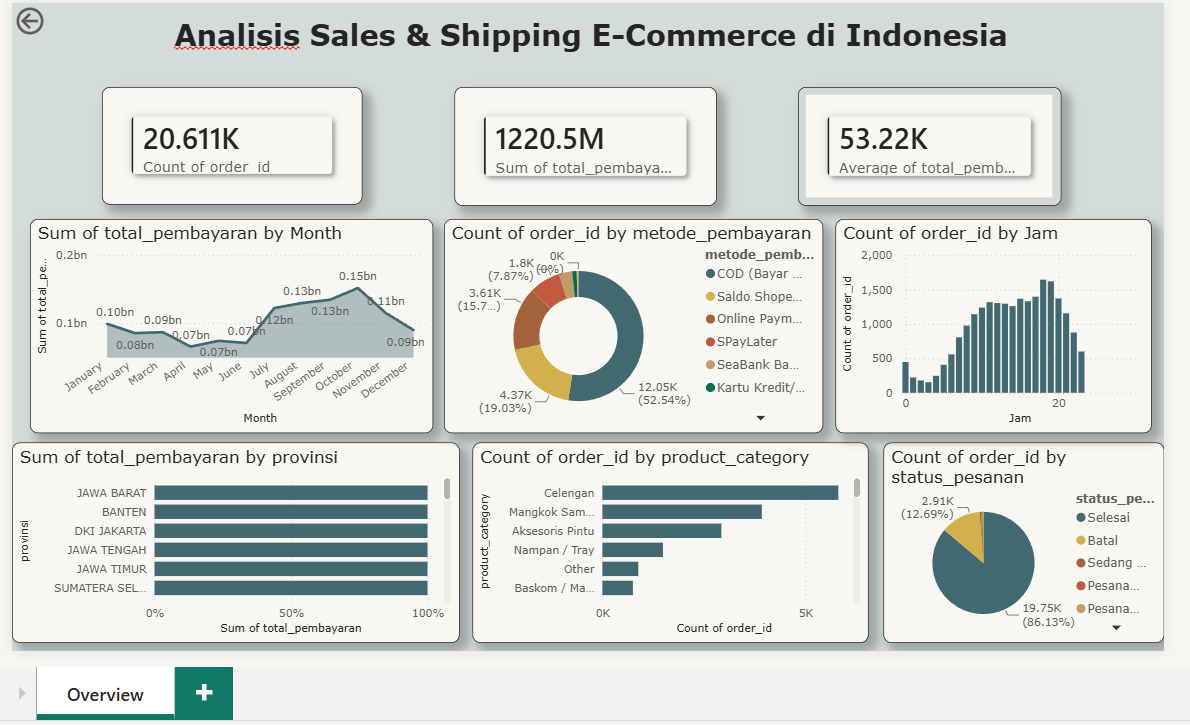

This screenshot's page, from the dashboard's own definition file:
{"tool":"powerbi","page":{"name":"Overview","canvas":[1280,720],"ordinal":0},"visuals":[{"type":"actionButton","box":[0,0,100,40],"z":0},{"type":"cardVisual","fields":{"Data":["Count(sales_data.order_id)"]},"box":[100.2,92.6,289.1,130.4],"z":1000},{"type":"cardVisual","fields":{"Data":["Sum(sales_data.total_pembayaran)"]},"box":[491.3,92.6,291,132.3],"z":2000},{"type":"cardVisual","fields":{"Data":["Avg(sales_data.total_pembayaran)"]},"box":[873.1,92.6,292.9,132.3],"z":3000},{"type":"lineChart","fields":{"Y":["Sum(sales_data.total_pembayaran)"],"Category":["sales_data.waktu_pesanan_dibuat.Variation.Date Hierarchy.Year","sales_data.waktu_pesanan_dibuat.Variation.Date Hierarchy.Quarter","sales_data.waktu_pesanan_dibuat.Variation.Date Hierarchy.Month","sales_data.waktu_pesanan_dibuat.Variation.Date Hierarchy.Day"]},"box":[20.8,240,447.9,238.1],"z":4000},{"type":"hundredPercentStackedBarChart","fields":{"Category":["sales_data.provinsi"],"Y":["Sum(sales_data.total_pembayaran)"]},"box":[0,487.6,497,223],"z":5000},{"type":"donutChart","fields":{"Category":["sales_data.metode_pembayaran"],"Y":["CountNonNull(sales_data.order_id)"]},"box":[480,240,421.4,238.1],"z":6000},{"type":"barChart","fields":{"Category":["sales_data.product_category"],"Y":["CountNonNull(sales_data.order_id)"]},"box":[512.1,487.6,440.3,223],"z":7000},{"type":"pieChart","fields":{"Category":["sales_data.status_pesanan"],"Y":["CountNonNull(sales_data.order_id)"]},"box":[967.6,487.6,311.8,223],"z":8000},{"type":"clusteredColumnChart","fields":{"Category":["sales_data.Jam"],"Y":["CountNonNull(sales_data.order_id)"]},"box":[914.7,240,351.5,238.1],"z":9000},{"type":"textbox","box":[100.2,9.4,1086.6,58.6],"z":10000}]}

Visuals, with their boxes on the page's 1280x720 design canvas (x1, y1, x2, y2). These are canvas units, not pixel positions in the 1190x725 screenshot, which may show the page scaled, cropped or inside an application window:
actionButton: (0, 0, 100, 40)
cardVisual - Count(sales_data.order_id): (100, 93, 389, 223)
cardVisual - Sum(sales_data.total_pembayaran): (491, 93, 782, 225)
cardVisual - Avg(sales_data.total_pembayaran): (873, 93, 1166, 225)
lineChart - Sum(sales_data.total_pembayaran) x sales_data.waktu_pesanan_dibuat.Variation.Date Hierarchy.Year: (21, 240, 469, 478)
hundredPercentStackedBarChart - sales_data.provinsi x Sum(sales_data.total_pembayaran): (0, 488, 497, 711)
donutChart - sales_data.metode_pembayaran x CountNonNull(sales_data.order_id): (480, 240, 901, 478)
barChart - sales_data.product_category x CountNonNull(sales_data.order_id): (512, 488, 952, 711)
pieChart - sales_data.status_pesanan x CountNonNull(sales_data.order_id): (968, 488, 1279, 711)
clusteredColumnChart - sales_data.Jam x CountNonNull(sales_data.order_id): (915, 240, 1266, 478)
textbox: (100, 9, 1187, 68)
